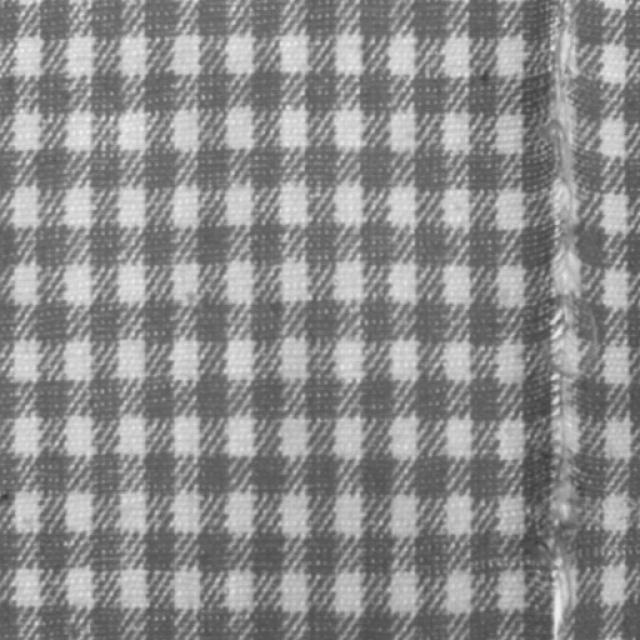Hole-Defect: (534, 6, 580, 639)
